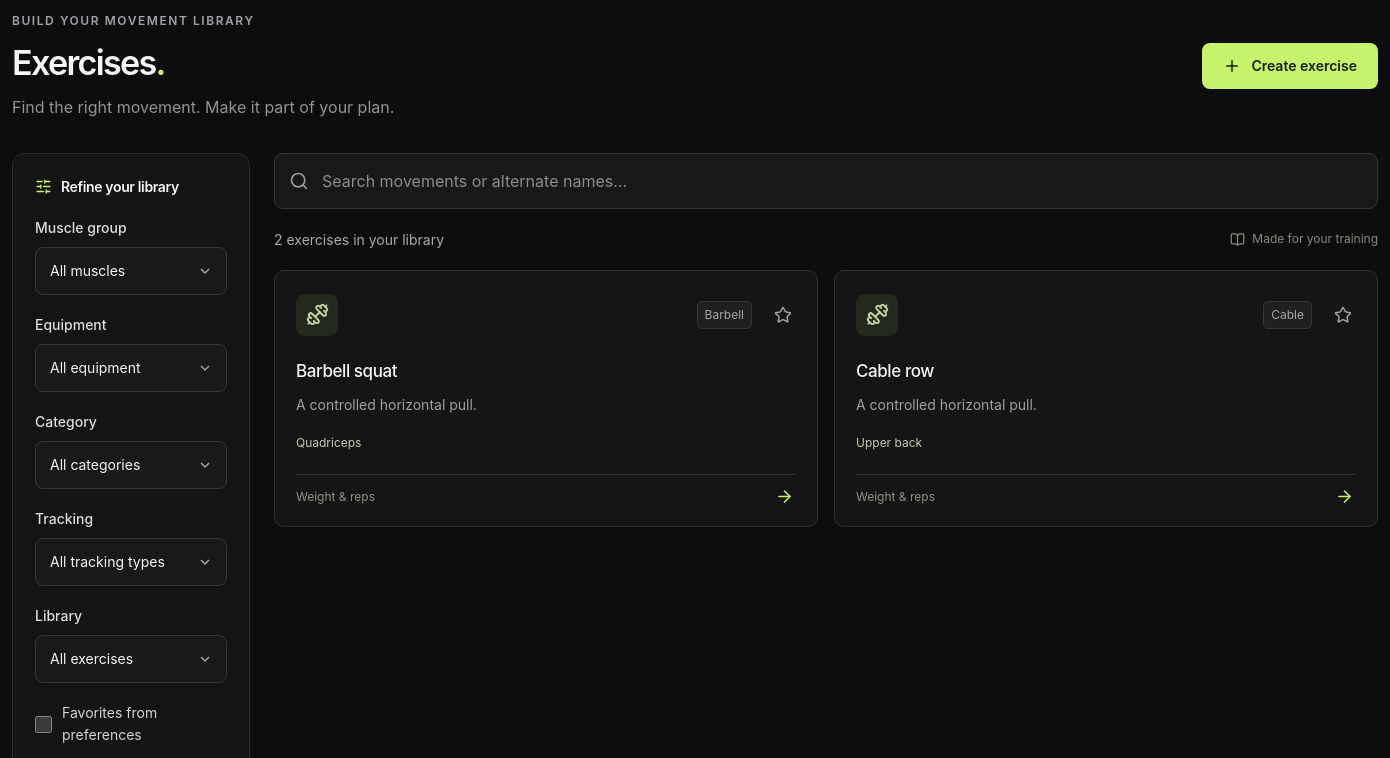
Scenario: Exercise library › shows an actionable limit instead of overwriting existing favorites
What coordinates should you click on to do the following:
click the button named "Add Cable row to favorites"
I would click on:
 (1343, 315)
Its box is [1321,293,1365,337].
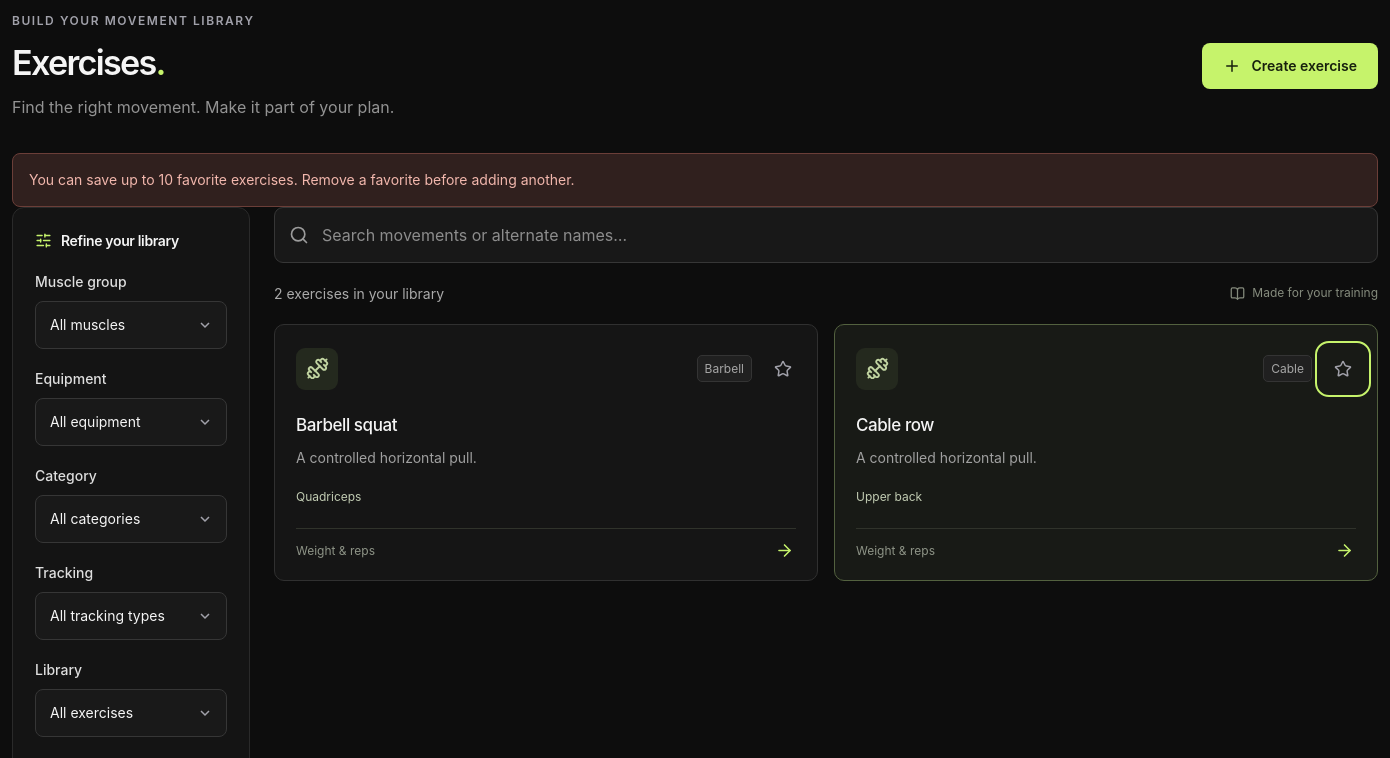
Result: the message shows "up to 10 favorite exercises" at [29,171,575,188]
